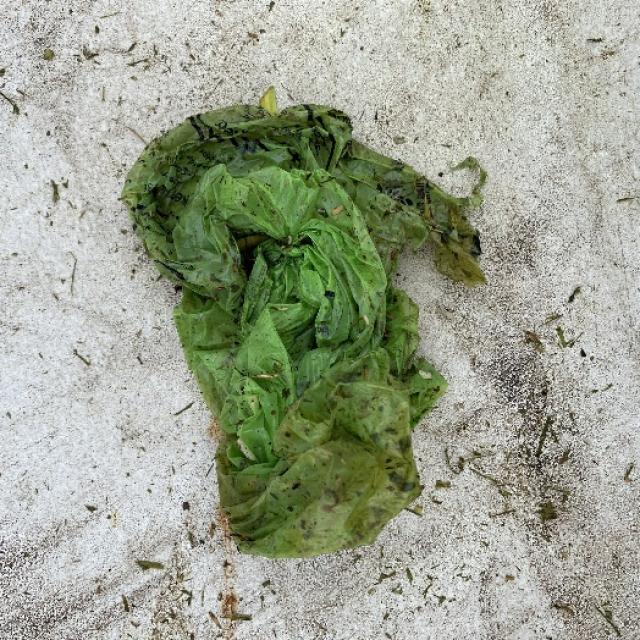organik: (134, 90, 479, 564)
